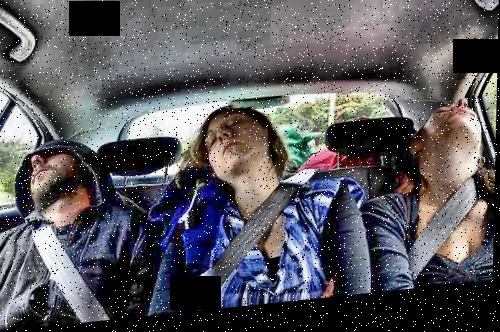seatbelt: (195, 171, 311, 292), (19, 201, 109, 328), (392, 183, 476, 286)
